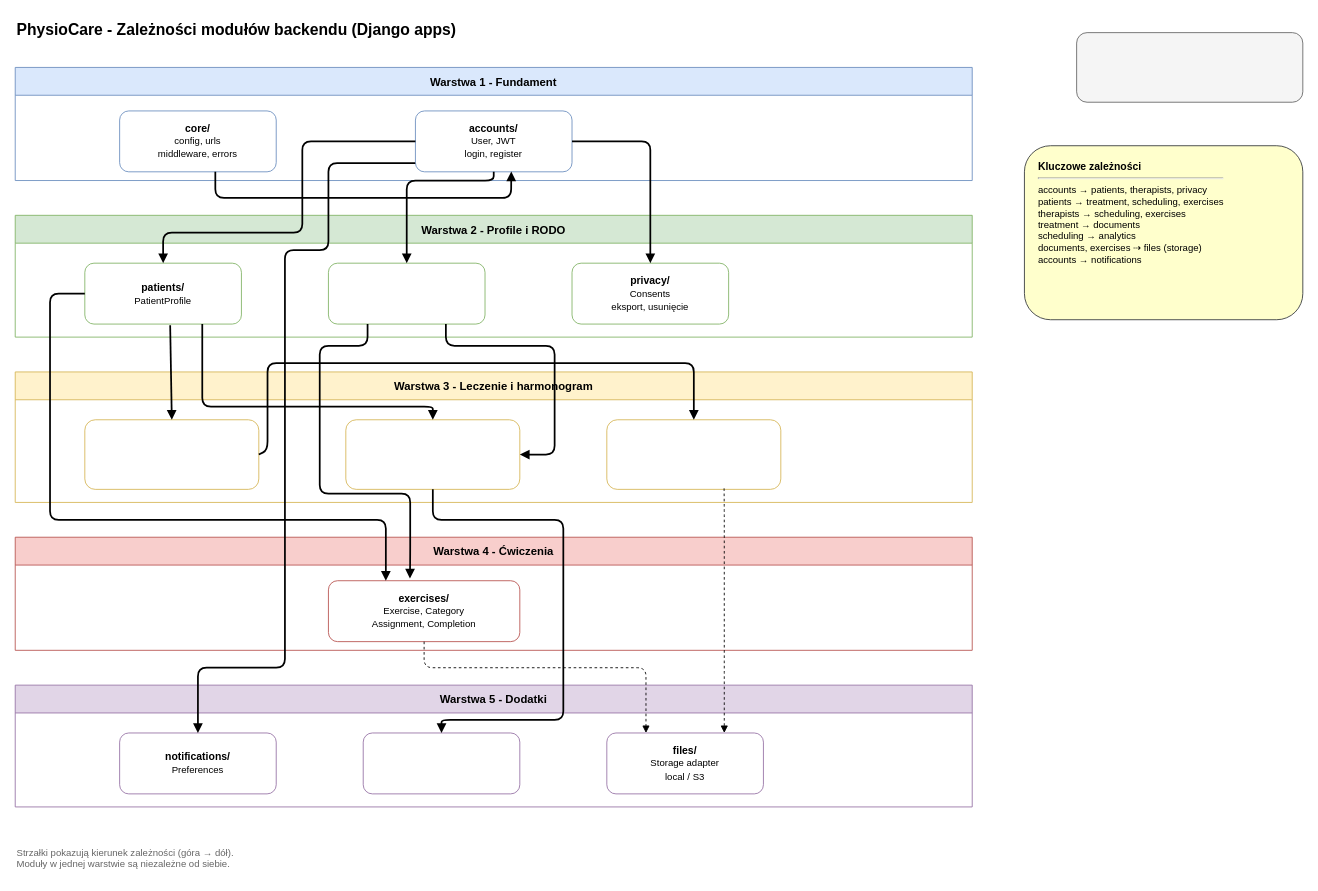
This 1318x891 diagram has some shape labels left out. The shapes that lost their labels are listed below. From the top down, each one's centre as x and y in pixels, then its label:
At point (1189, 67): "Legenda ━━ zależność import / FK ╌╌ użycie adaptera (storage)".
At point (406, 293): "therapists/ TherapistProfile PWZFz, kursy".
At point (171, 454): "treatment/ TreatmentEpisode BodyAreaPain VisitNote".
At point (432, 454): "scheduling/ Visit, TherapyType sloty kalendarza".
At point (693, 454): "documents/ MedicalDocument upload / download".
At point (441, 763): "analytics/ Dashboard stats".
